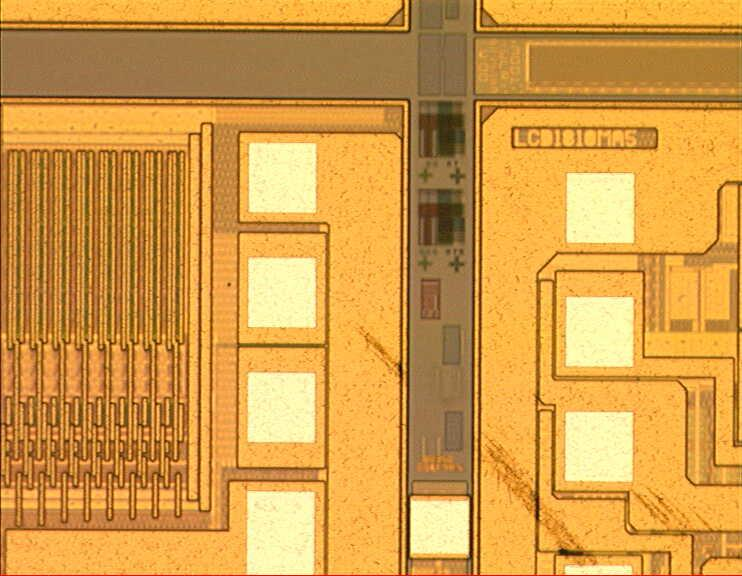SCRATCH: (335, 310, 731, 573)
